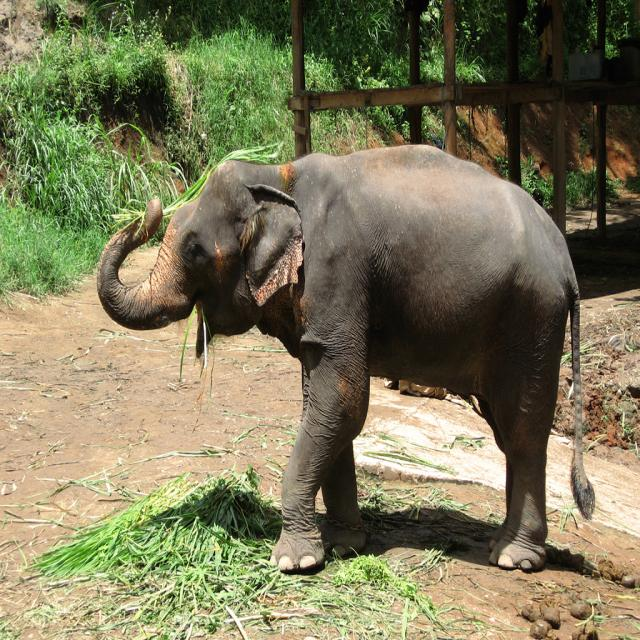Elephant: (97, 145, 596, 572)
